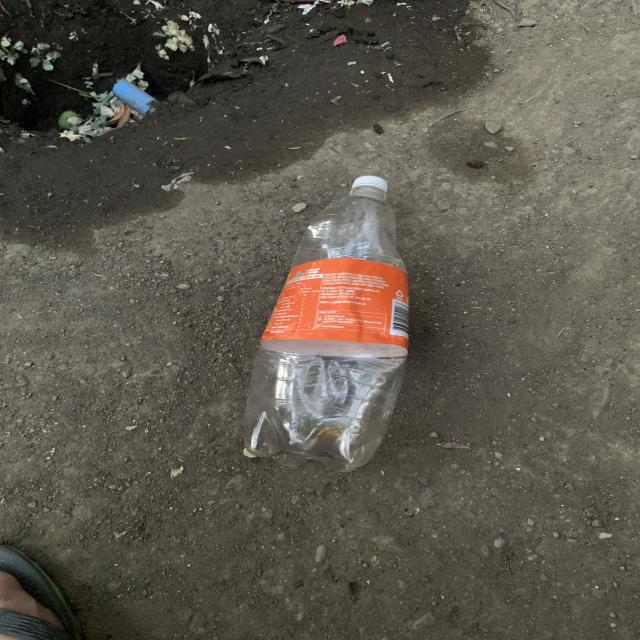Bottle: (243, 176, 409, 471)
